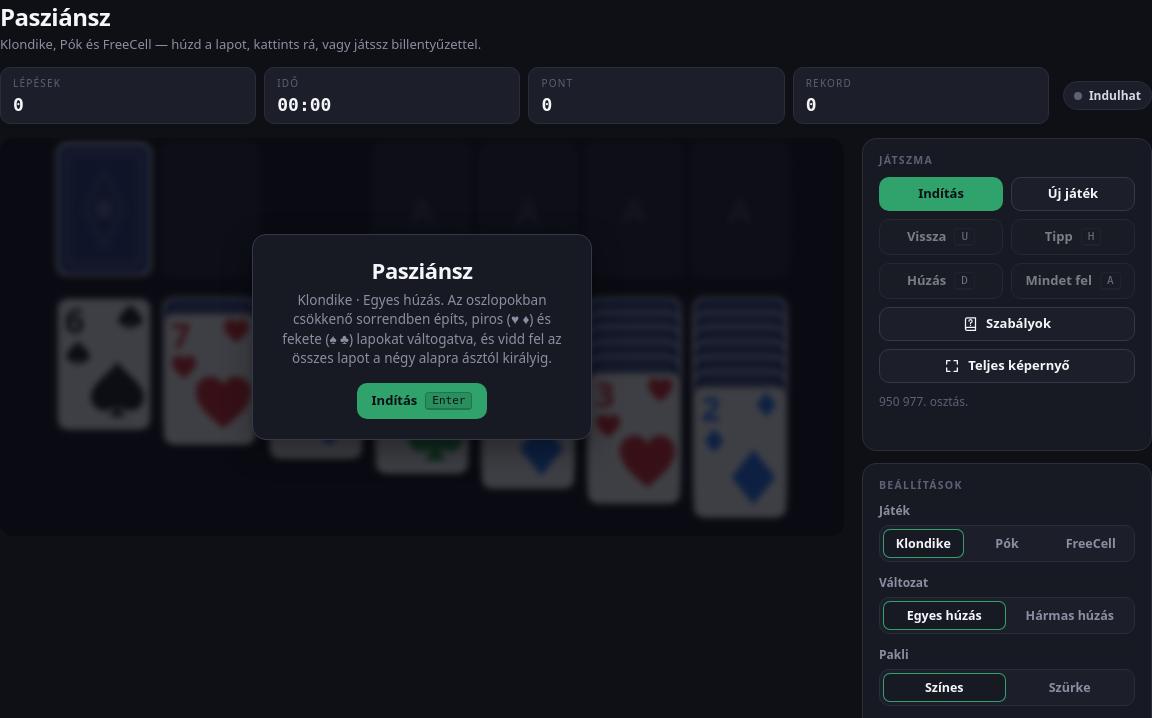
Test: Solitaire rules dialog › has a described run diagram that follows dental mode
The image size is (1152, 718).
Click the button "Szabályok" at (1007, 324), box x1=879 y1=307 x2=1135 y2=341
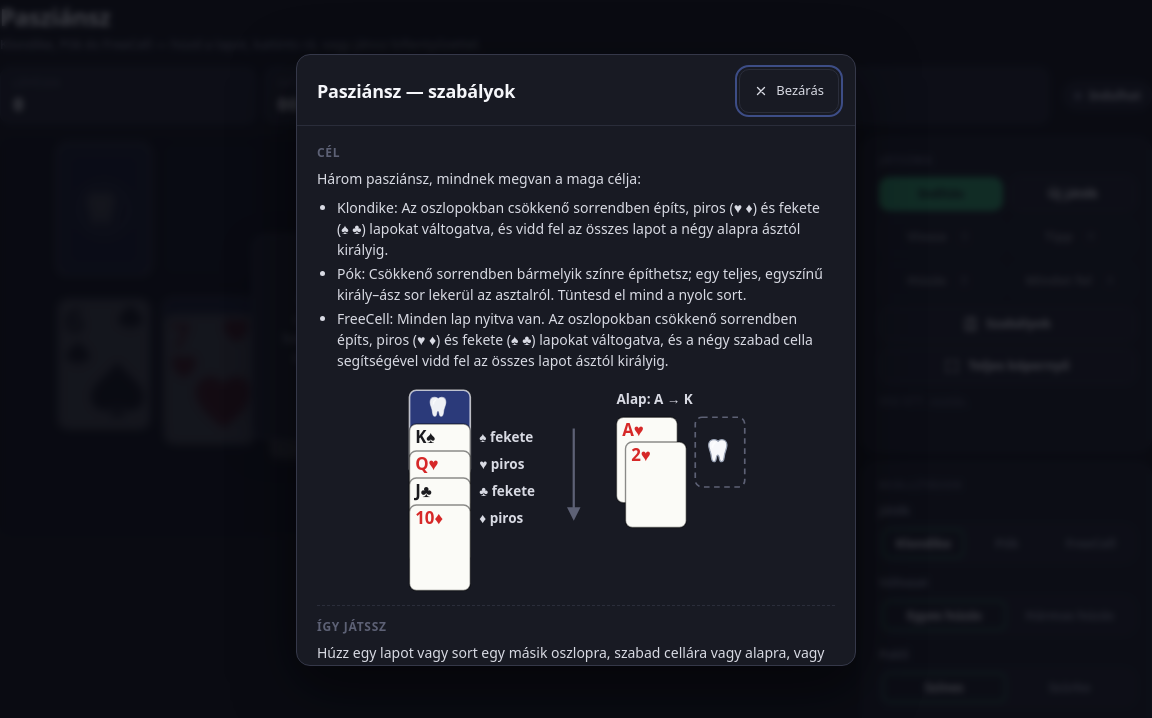
Result: the picture named "Ábra" shows "♠" at x1=426 y1=425 x2=435 y2=448
Result: the picture named "Ábra" shows "♥" at x1=428 y1=452 x2=438 y2=475
Result: the picture named "Ábra" shows "fekete" at x1=490 y1=428 x2=533 y2=446
